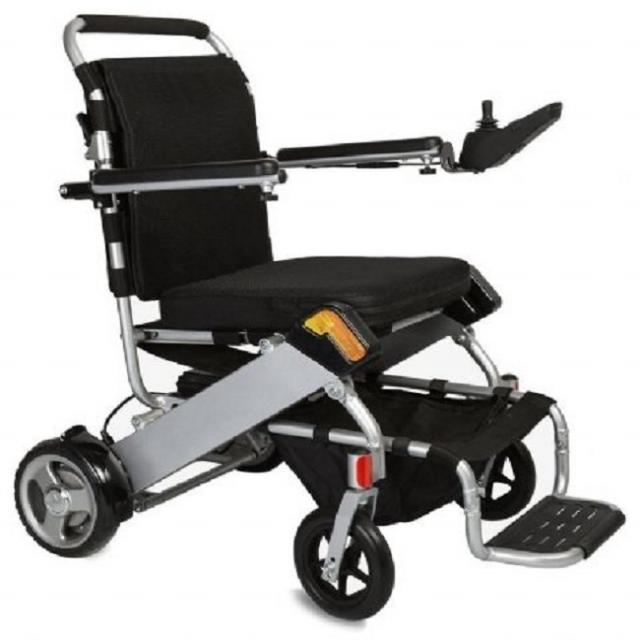wheelchair: (8, 8, 640, 623)
